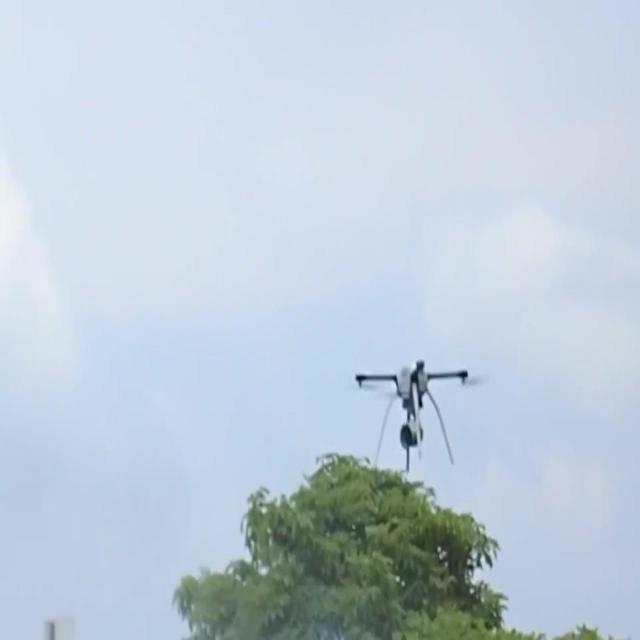UAV: (359, 355, 471, 473)
